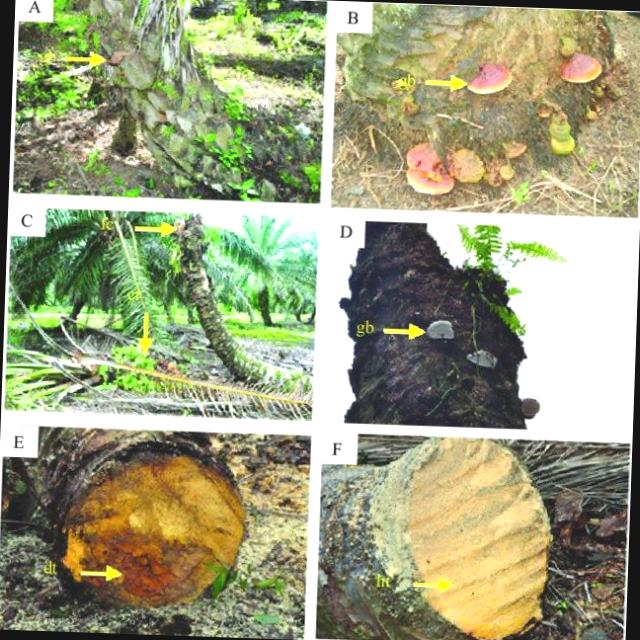ganoderma: (404, 145, 456, 196), (468, 60, 515, 98), (448, 147, 487, 185), (560, 53, 603, 83), (504, 140, 530, 160)
